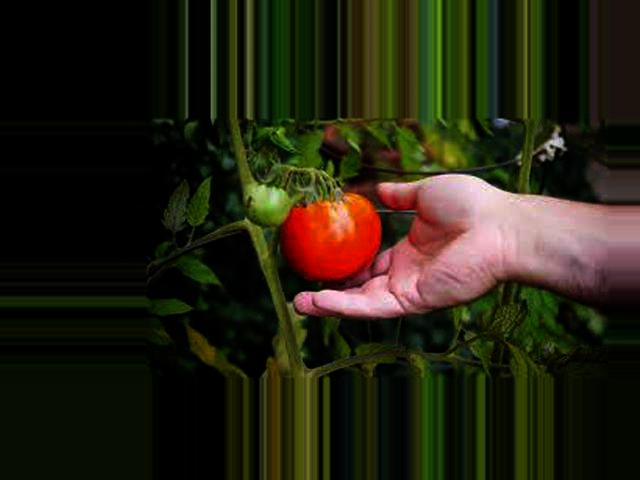tomato: (278, 190, 382, 281)
